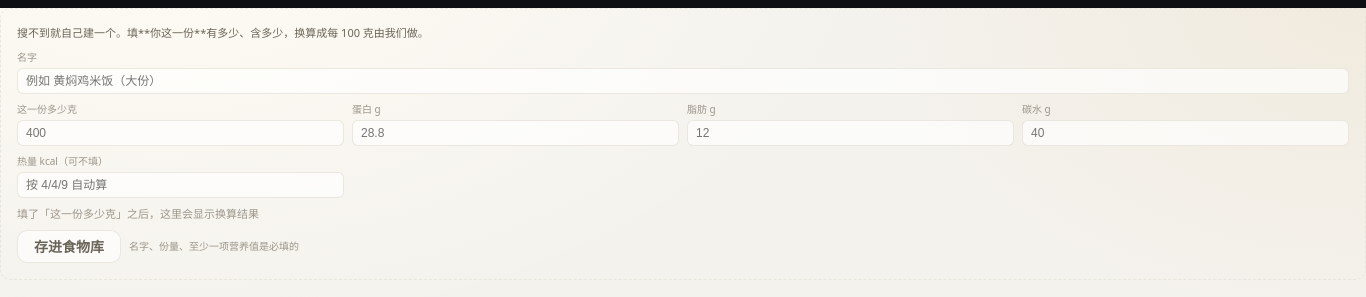
Scenario: 新建食物 · 换算口径 › 没填热量时按 4/4/9 算这一份的热量
Expected: the label "这一份多少克" is shown, [17,102,344,146]
Type "100" into the number field labelled "这一份多少克" at (180,132), box [17,120,344,146]
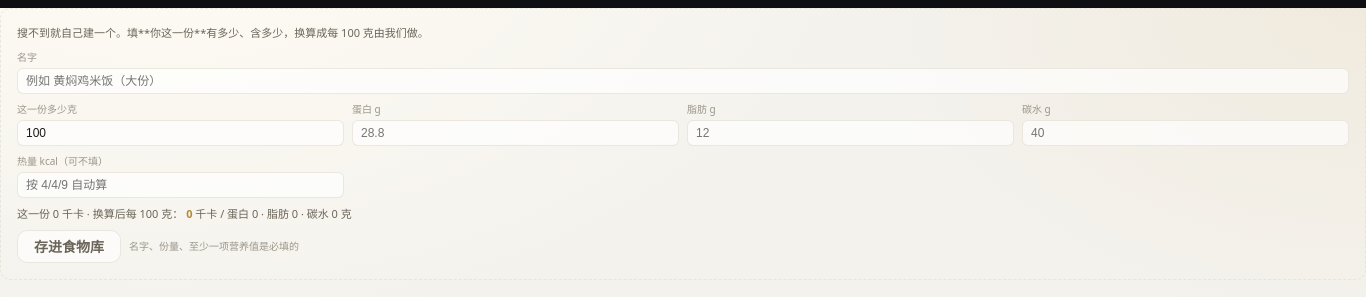
Expected: the label "蛋白 g" is shown, [352,102,679,146]
Type "10" into the number field labelled "蛋白 g" at (516,132), box [352,120,679,146]
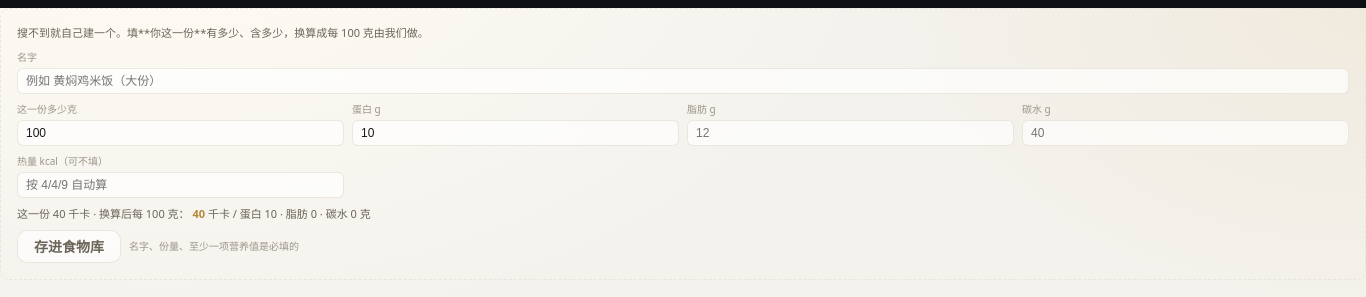
Expected: the label "脂肪 g" is shown, [687,102,1014,146]
Type "5" into the number field labelled "脂肪 g" at (850,132), box [687,120,1014,146]
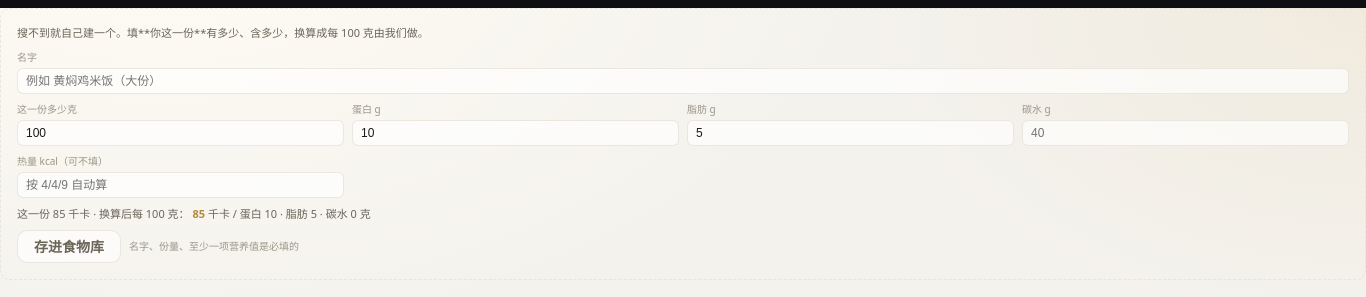
Expected: the label "碳水 g" is shown, [1022,102,1349,146]
Type "20" into the number field labelled "碳水 g" at (1186,132), box [1022,120,1349,146]
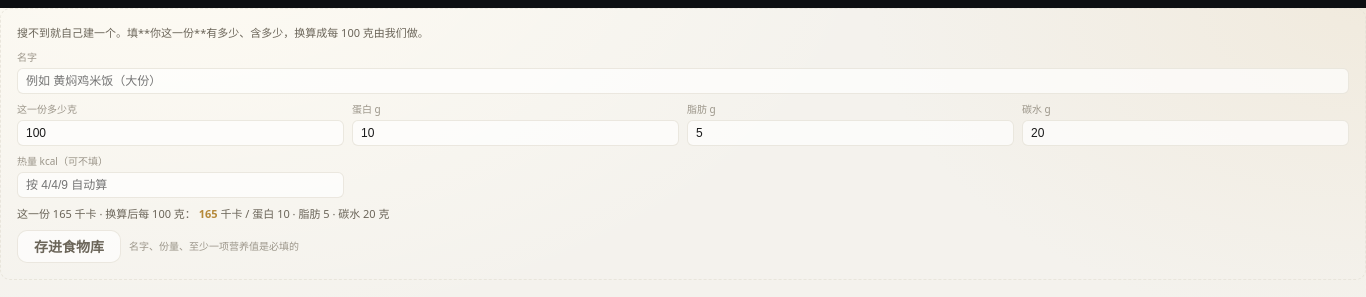
Expected: the element showing "这一份 165 千卡 · 换算后每 100 克： 165 千卡 / 蛋白 10 · 脂肪 5 · 碳水 20 克" is shown, [17,206,390,220]
